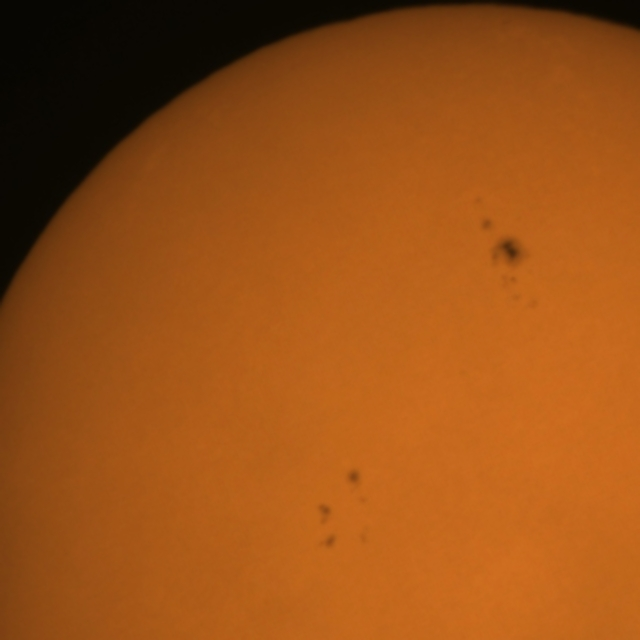sunspot: (489, 234, 532, 284), (317, 522, 371, 552), (344, 466, 370, 508), (314, 500, 334, 532), (316, 528, 339, 552), (344, 466, 363, 492), (356, 524, 371, 549), (478, 214, 495, 235)
